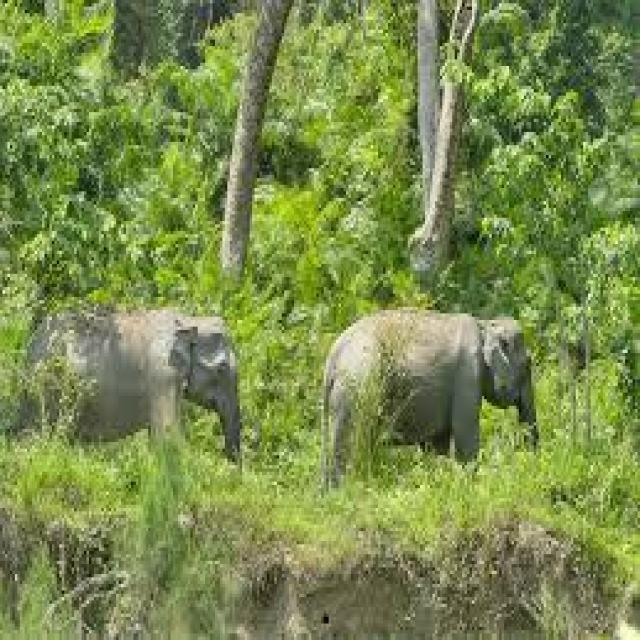Elephant: (321, 307, 536, 472), (24, 300, 240, 462)
